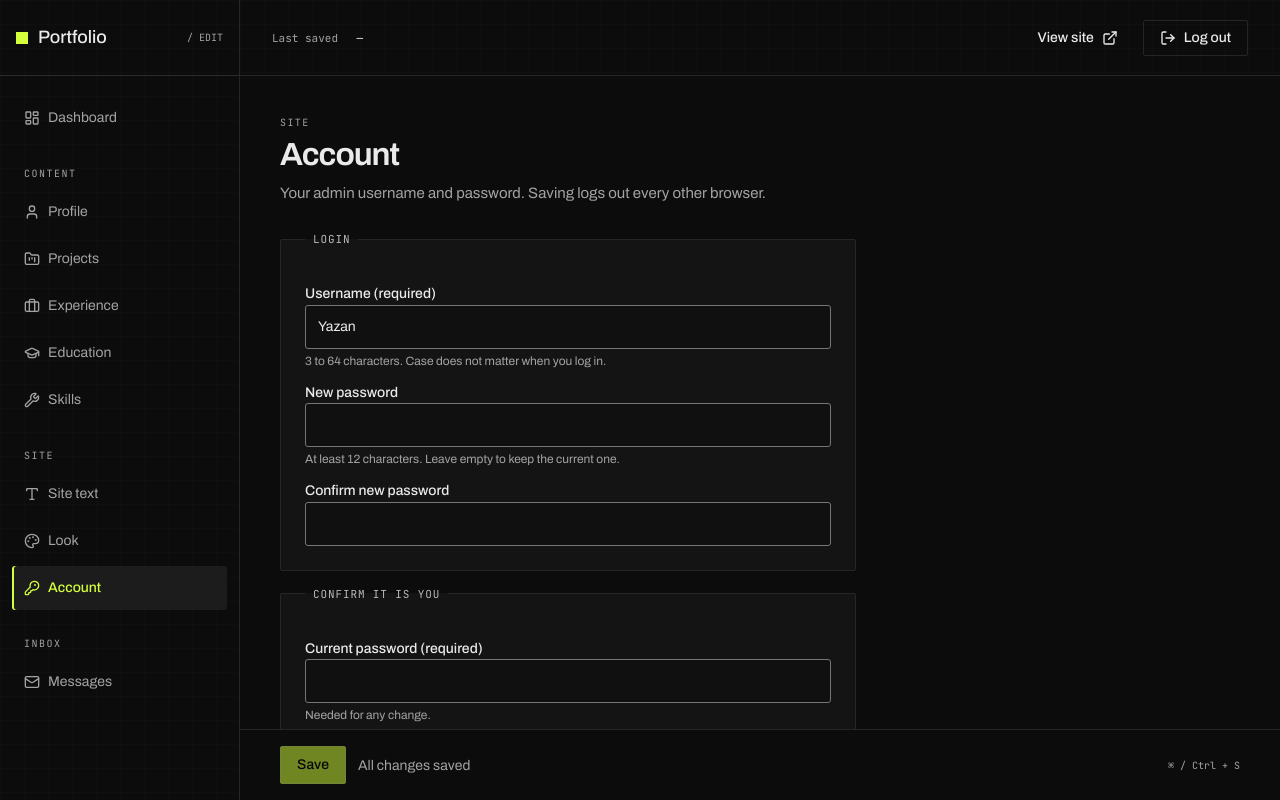
Test case: AdminAccount › too many wrong attempts shows the slow-down message
Replace the text in the field labelled "Username (required)" with "Admin2" at point(568, 327), box [305,305,831,349]
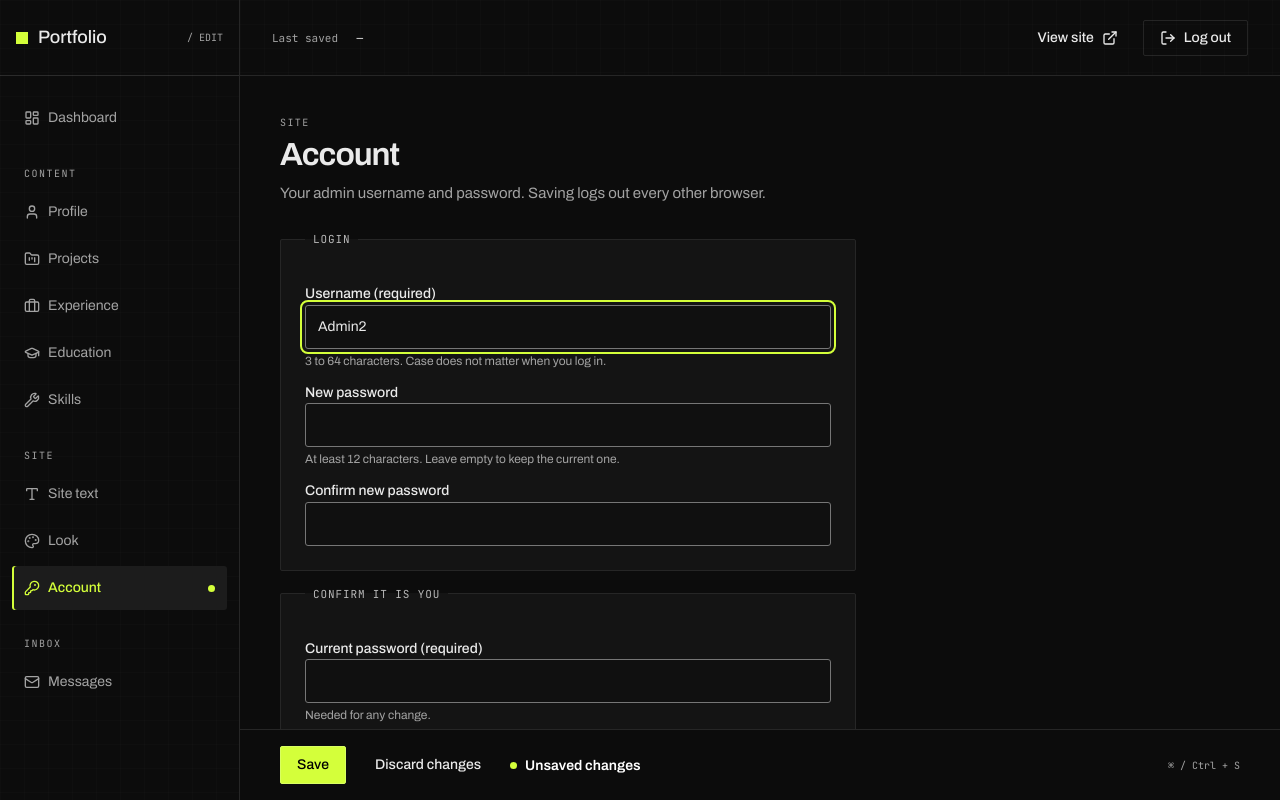
Type "the current password" into the password field labelled "Current password (required)" at point(568, 681), box [305,659,831,703]
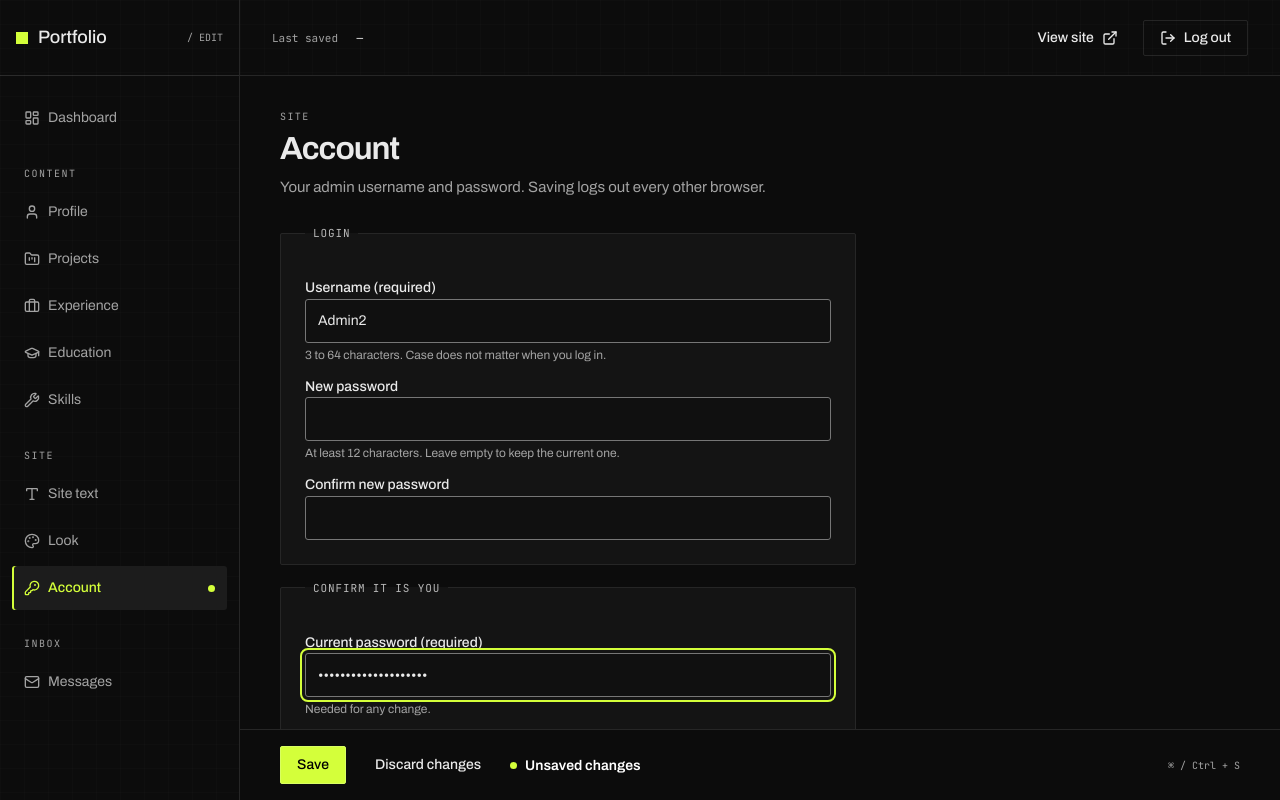
Click the button "Save" at point(313, 765), box [280,746,346,784]
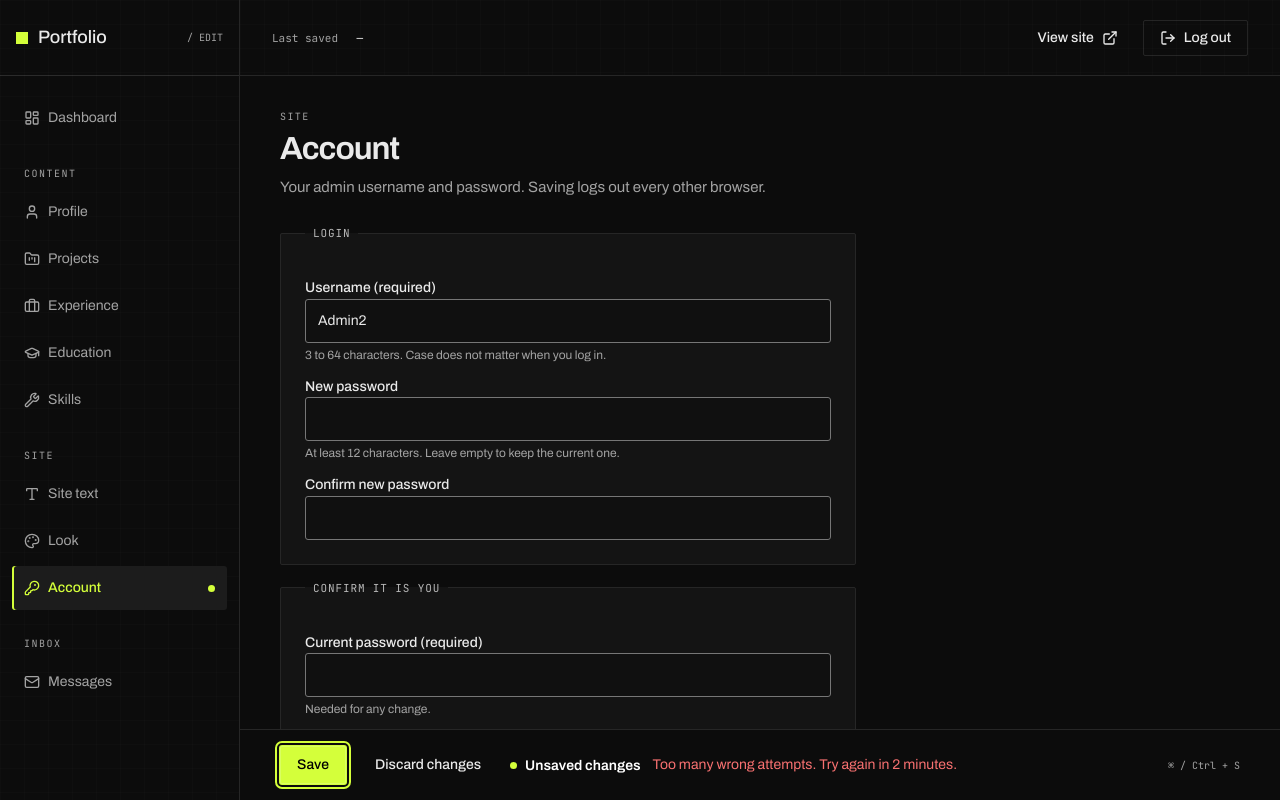
Expected: the message "Too many wrong attempts. Try again in 2 minutes." is shown, [653,755,957,775]
